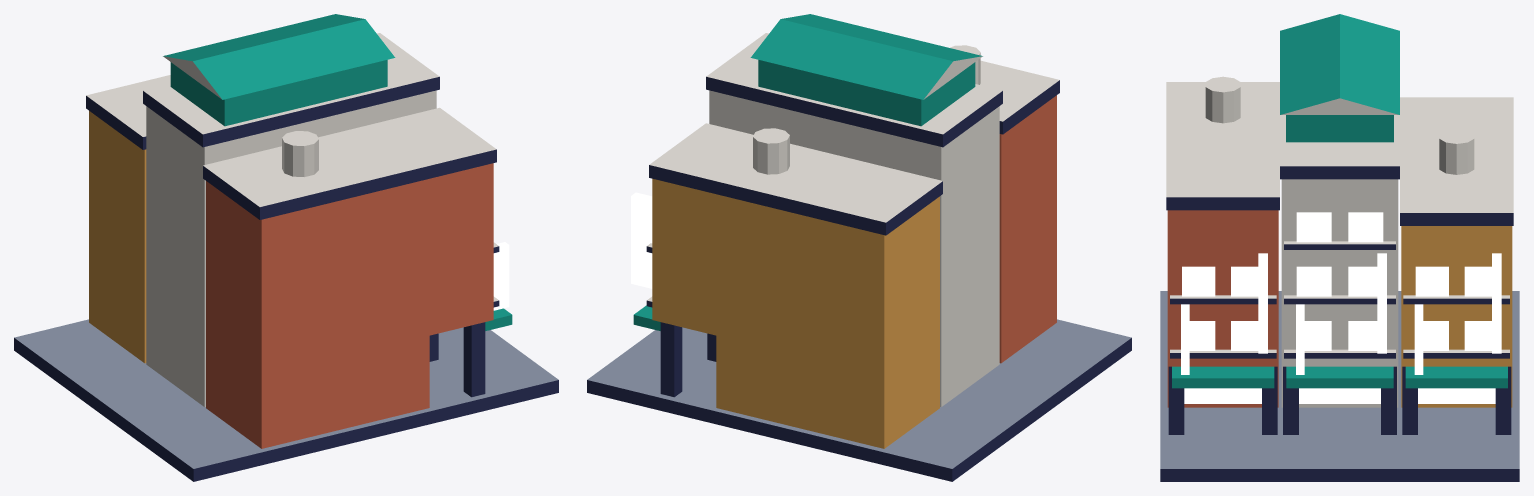
File: building-shophouse-arcade.glb
3 renders of one model, left to right at view 1: azimuth 30°, elevation 25°; view 2: azimuth 150°, elevation 25°; view 3: azimuth 270°, elevation 25°, orthographic.
Visible parts, largest first — view 1: building-shophouse-arcade_root; view 2: building-shophouse-arcade_root; view 3: building-shophouse-arcade_root.
Boxes of the visible parts, <box> form: building-shophouse-arcade_root: <box>14,14,558,481</box>; building-shophouse-arcade_root: <box>587,14,1131,481</box>; building-shophouse-arcade_root: <box>1160,14,1519,481</box>.
Bounding box in the file's own units: 14.8 × 12.9 × 12.6.
2 materials, 2 textured.
